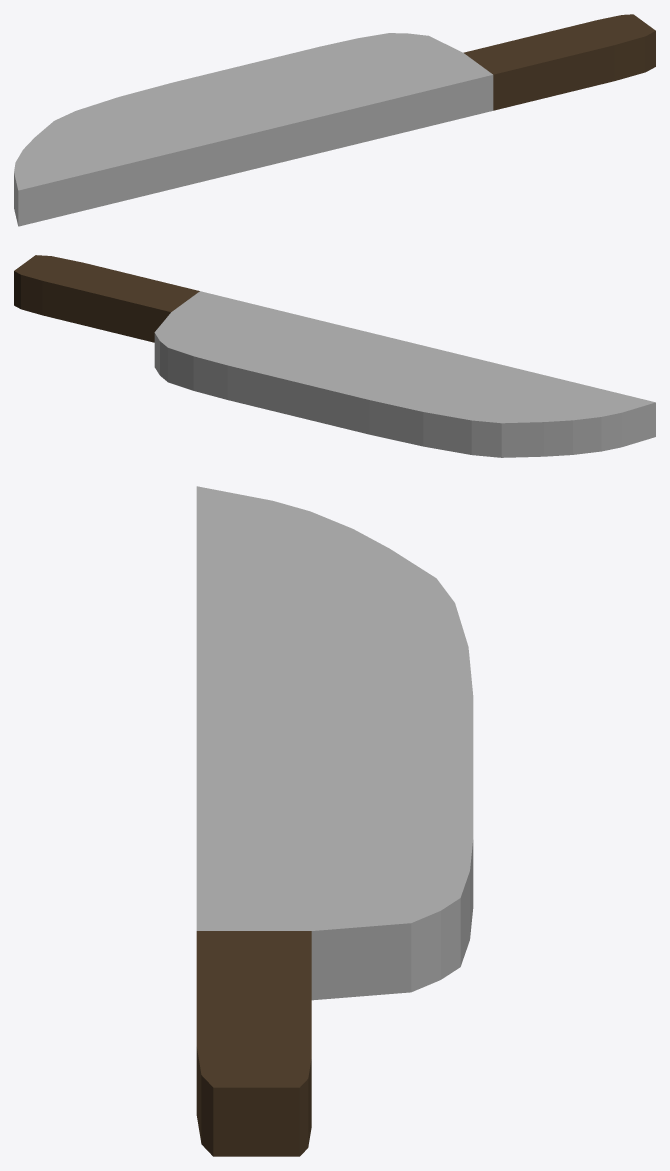
Rendered from knife.fbx.
3 renders of one model, top to bottom at view 1: azimuth 30°, elevation 25°; view 2: azimuth 150°, elevation 25°; view 3: azimuth 270°, elevation 25°, orthographic. The views are drawn at different scales.
Visible parts, largest first — view 1: Cube.005; view 2: Cube.005; view 3: Cube.005.
Part boxes in pixels (bbox=[...]): Cube.005: bbox=[14, 14, 655, 226]; Cube.005: bbox=[14, 255, 655, 457]; Cube.005: bbox=[196, 486, 473, 1156].
Bounding box in the file's own units: 74.51 × 4 × 14.5.
